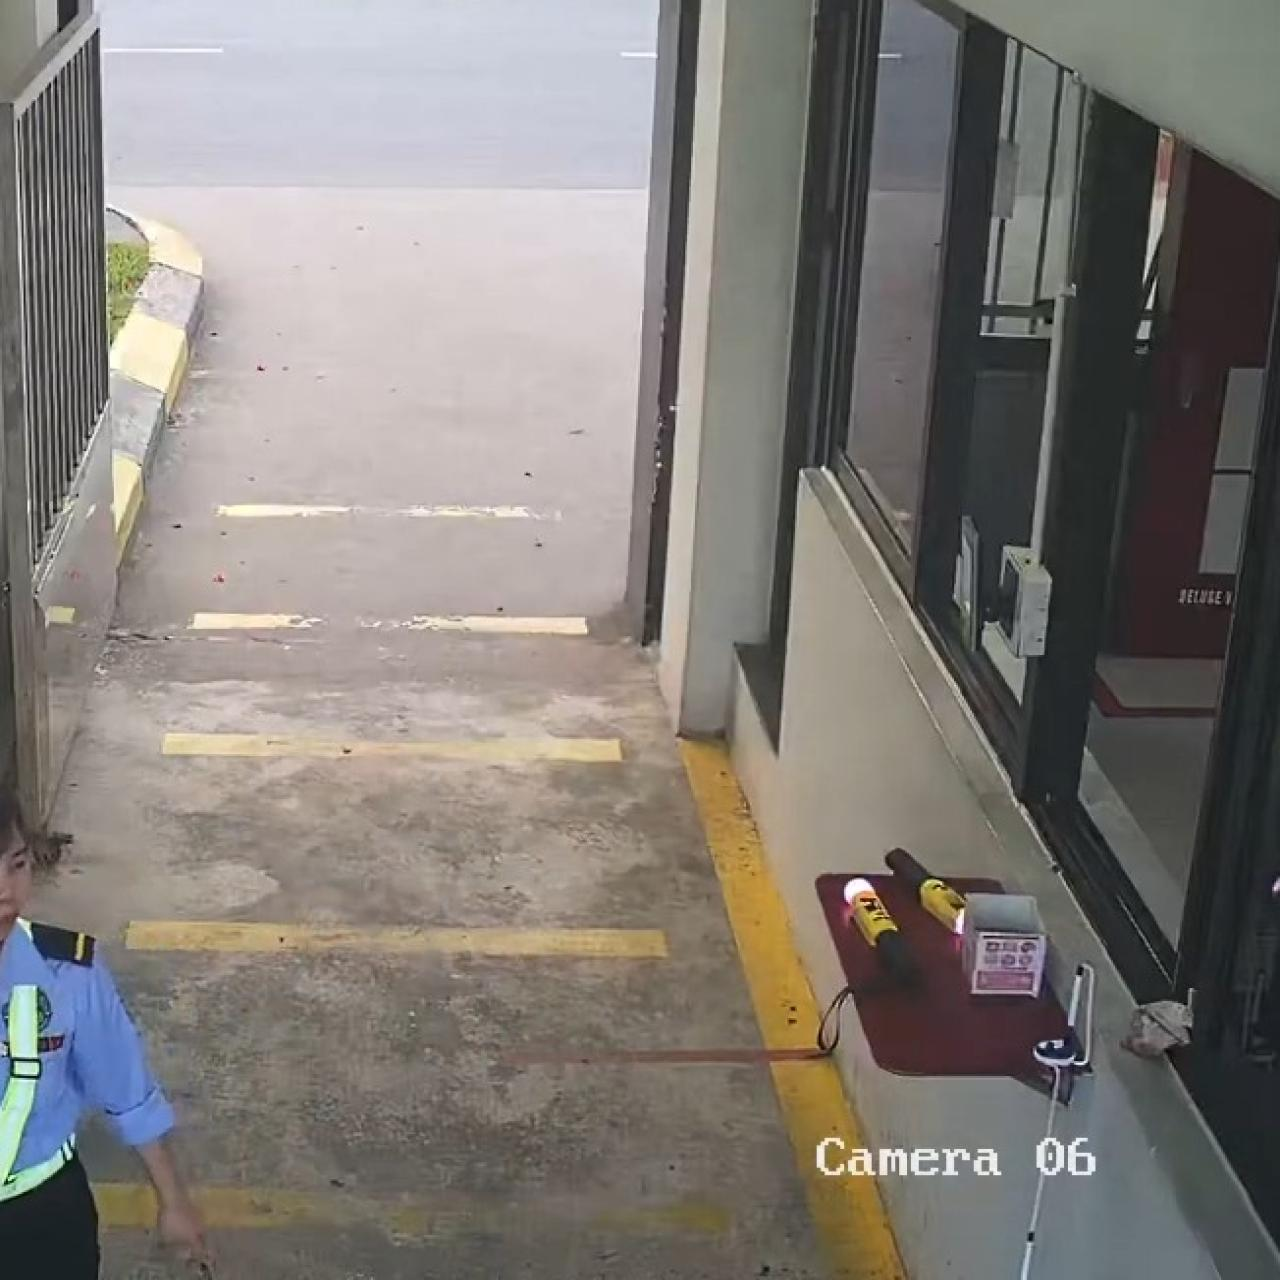breathalyzer: (829, 872, 927, 1014), (884, 838, 981, 939)
guard: (0, 769, 218, 1276)
